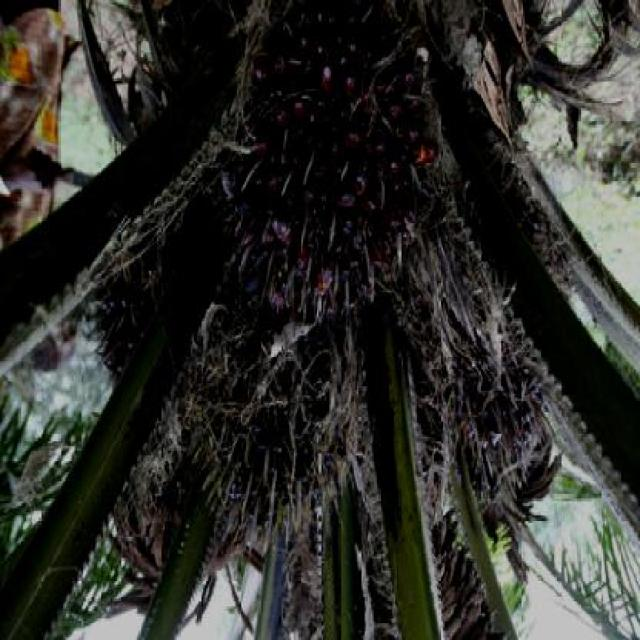palm-oil: (248, 39, 440, 308), (198, 343, 351, 522)
